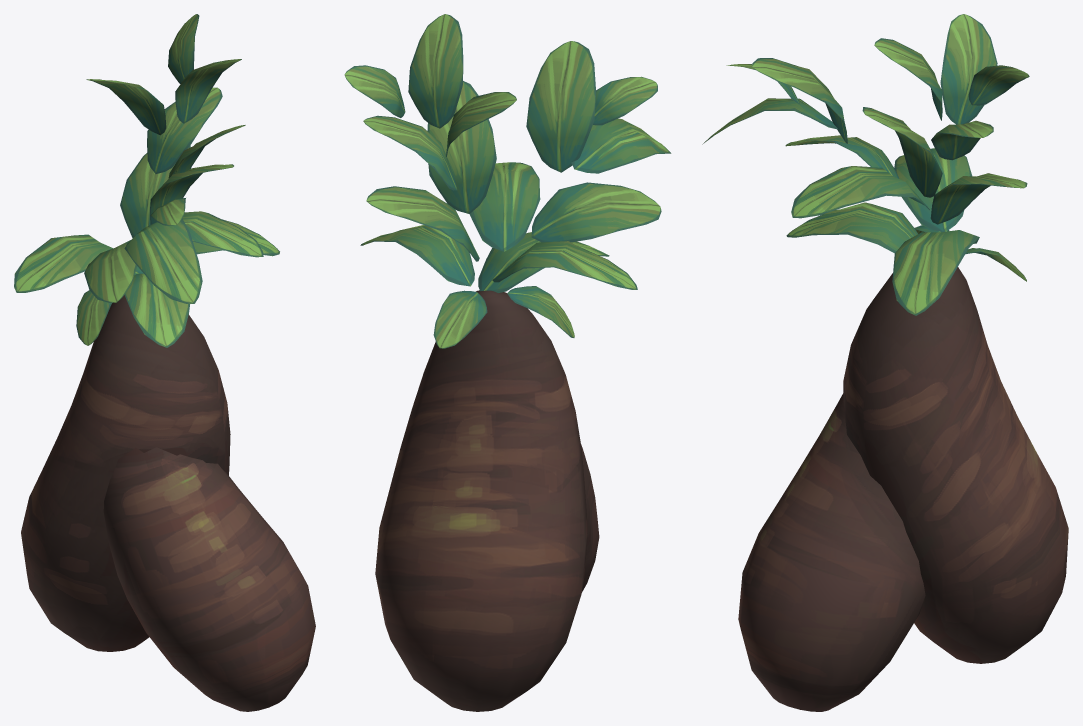
Rendered from mesh_ficus.fbx.
3 views of the same model, side by side, from view 1: azimuth 30°, elevation 25°; view 2: azimuth 150°, elevation 25°; view 3: azimuth 270°, elevation 25° (orthographic). The views are drawn at different scales.
Parts seen in each view (by area): view 1: ficus; view 2: ficus; view 3: ficus.
Boxes of the visible parts, bbox=[...] form: ficus: bbox=[14, 14, 315, 711]; ficus: bbox=[344, 14, 671, 711]; ficus: bbox=[702, 14, 1068, 711].
Size of the model in its own units: 0.3704 by 0.8344 by 0.4159.
